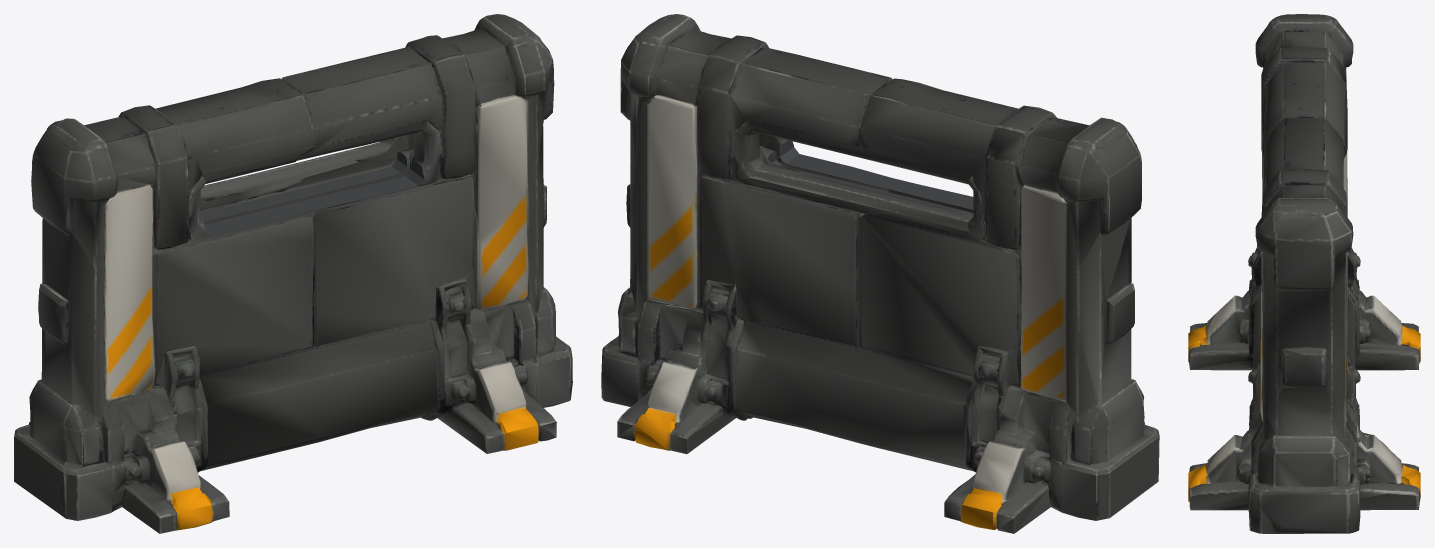
The model's file is 02_mag_barricade_high.fbx.
3 renders of one model, left to right at view 1: azimuth 30°, elevation 25°; view 2: azimuth 150°, elevation 25°; view 3: azimuth 270°, elevation 25°, orthographic. The views are drawn at different scales.
Parts seen in each view (by area): view 1: 02_mag_barricade_high; view 2: 02_mag_barricade_high; view 3: 02_mag_barricade_high.
Part boxes in pixels (bbox=[...]): 02_mag_barricade_high: bbox=[14, 14, 572, 533]; 02_mag_barricade_high: bbox=[601, 14, 1159, 533]; 02_mag_barricade_high: bbox=[1188, 14, 1420, 533].
Bounding box in the file's own units: 2.4 × 1.63 × 1.09.
2 materials, 1 textured.
